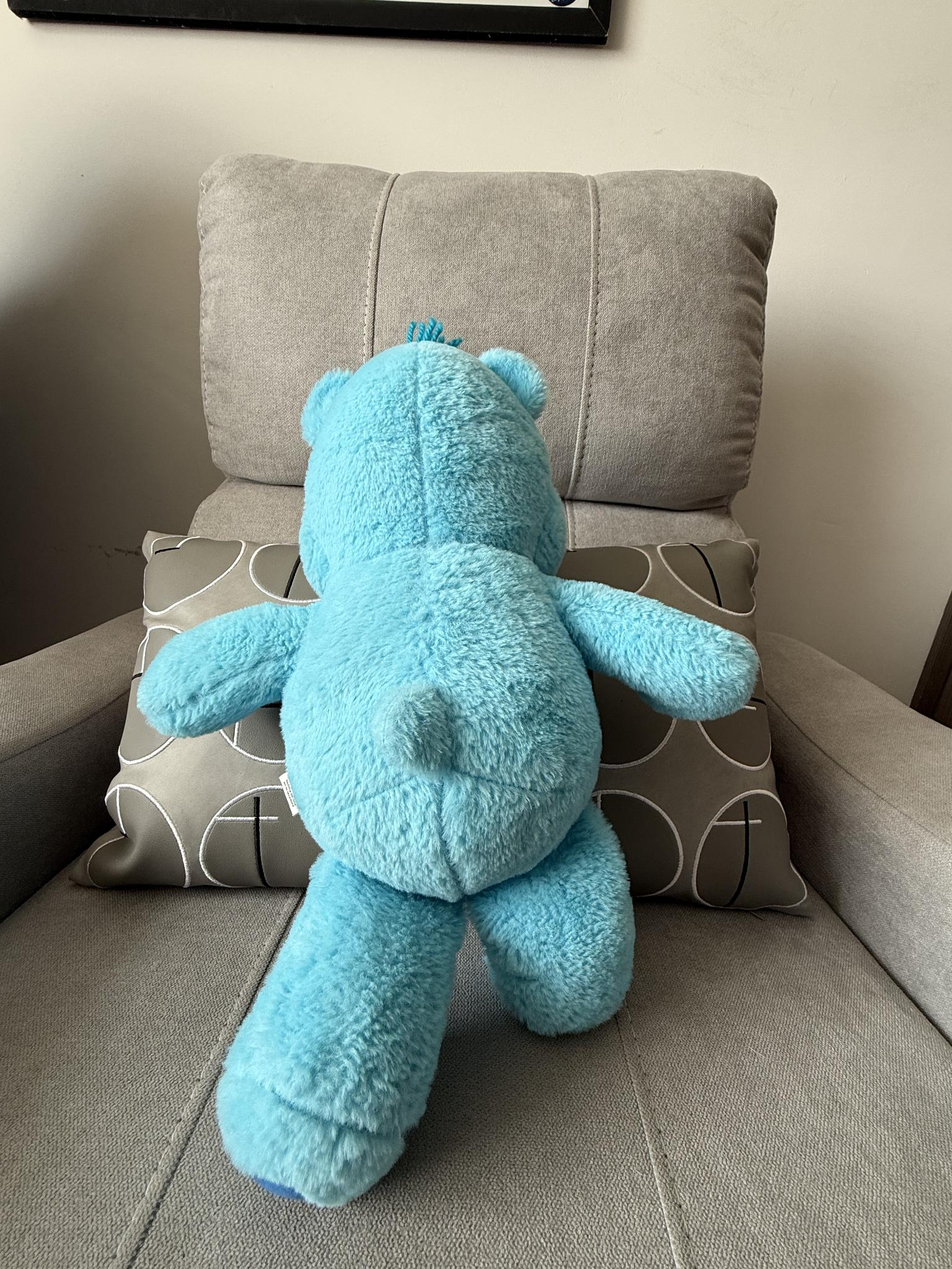peluche_Juan Jose: (219, 334, 749, 1205)
